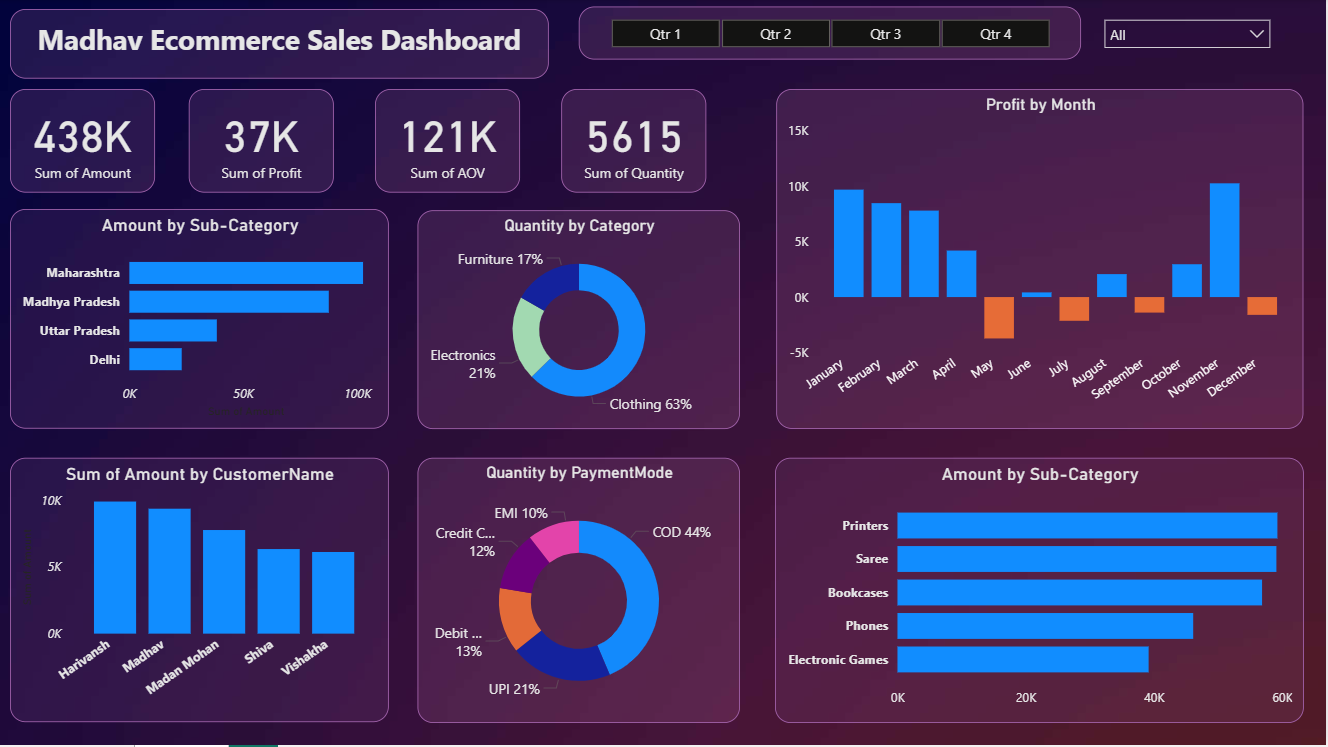

The page's visual inventory and layout, read from the dashboard file:
{"tool":"powerbi","page":{"name":"Page 1","canvas":[1280,720],"ordinal":0},"visuals":[{"type":"textbox","box":[9.7,9.7,520,67.6],"z":0},{"type":"columnChart","title":"Profit by Month","fields":{"Y":["Sum(Details.Profit)"],"Category":["Orders.Order Date.Variation.Date Hierarchy.Month"]},"box":[749.2,86.9,509.1,328.2],"z":1000},{"type":"barChart","title":"Amount by Sub-Category","fields":{"Category":["Details.Sub-Category"],"Y":["Sum(Details.Amount)"]},"box":[748,442.8,510.3,255.8],"z":2000},{"type":"donutChart","title":"Quantity by Category","fields":{"Category":["Details.Category"],"Y":["Sum(Details.Quantity)"]},"box":[403,203.9,311.3,211.1],"z":3000},{"type":"donutChart","title":"Quantity by PaymentMode","fields":{"Category":["Details.PaymentMode"],"Y":["Sum(Details.Quantity)"]},"box":[403,442.8,311.3,255.8],"z":4000},{"type":"card","fields":{"Values":["Sum(Details.Amount)"]},"box":[10,86.7,140,100],"z":5000},{"type":"card","fields":{"Values":["Sum(Details.Quantity)"]},"box":[541.1,86.7,140,100],"z":6000},{"type":"card","fields":{"Values":["Sum(Details.Profit)"]},"box":[182.2,86.7,140,100],"z":7000},{"type":"card","fields":{"Values":["Sum(Details.AOV)"]},"box":[362.2,86.7,140,100],"z":8000},{"type":"barChart","title":"Amount by Sub-Category","fields":{"Category":["Orders.State"],"Y":["Sum(Details.Amount)"]},"box":[10,202.2,365.6,212.2],"z":9000},{"type":"columnChart","fields":{"Category":["Orders.CustomerName"],"Y":["Sum(Details.Amount)"]},"box":[10,443.3,365.6,255.6],"z":10000},{"type":"slicer","fields":{"Values":["Orders.Order Date.Variation.Date Hierarchy.Quarter"]},"box":[558.9,7.8,484.4,51.1],"z":11000},{"type":"slicer","fields":{"Values":["Orders.State"]},"box":[1056,10,180,49],"z":12000}]}

Visuals, with their boxes in screenshot pixels (x1, y1, x2, y2), scaled from the page's 1280x720 canvas onto the 1328x747 screenshot:
textbox: bbox=(10, 10, 550, 80)
"Profit by Month" columnChart: bbox=(777, 90, 1305, 431)
"Amount by Sub-Category" barChart: bbox=(776, 459, 1305, 725)
"Quantity by Category" donutChart: bbox=(418, 212, 741, 431)
"Quantity by PaymentMode" donutChart: bbox=(418, 459, 741, 725)
card - Sum(Details.Amount): bbox=(10, 90, 156, 194)
card - Sum(Details.Quantity): bbox=(561, 90, 707, 194)
card - Sum(Details.Profit): bbox=(189, 90, 334, 194)
card - Sum(Details.AOV): bbox=(376, 90, 521, 194)
"Amount by Sub-Category" barChart: bbox=(10, 210, 390, 430)
columnChart - Orders.CustomerName x Sum(Details.Amount): bbox=(10, 460, 390, 725)
slicer - Orders.Order Date.Variation.Date Hierarchy.Quarter: bbox=(580, 8, 1082, 61)
slicer - Orders.State: bbox=(1096, 10, 1282, 61)
